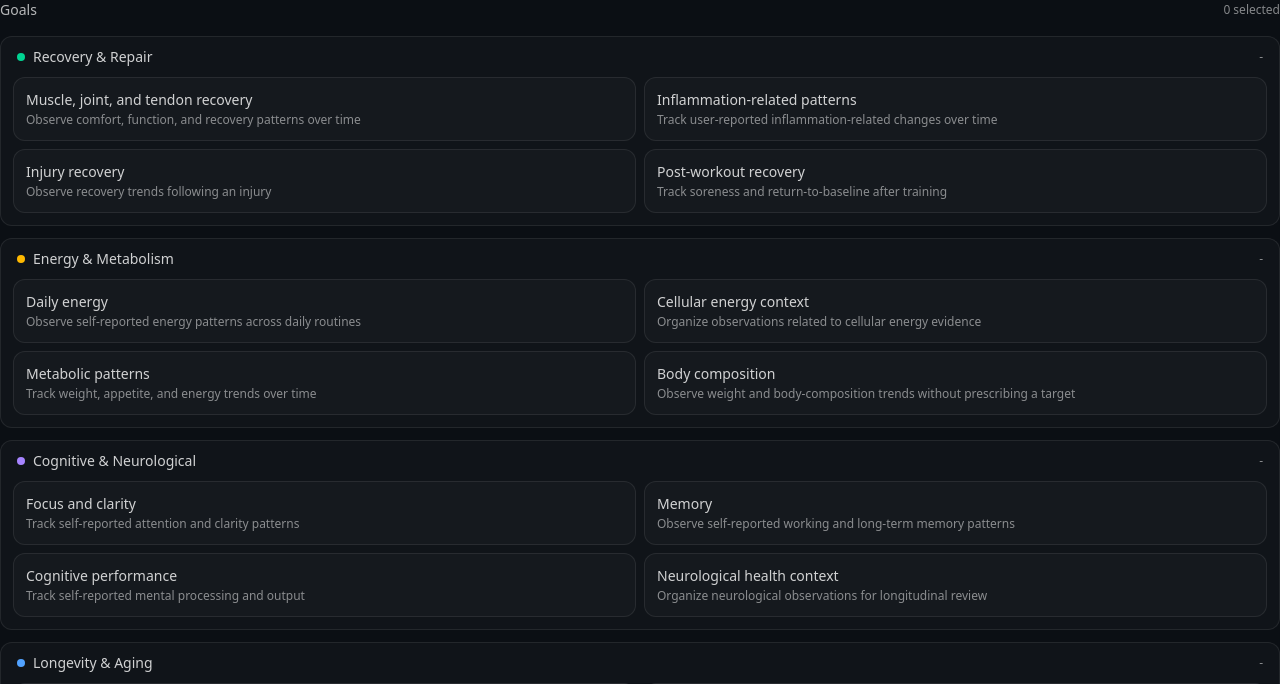
Test: GoalPicker › collapses and expands a category on button click
Expected: the text "Muscle, joint, and tendon recovery" is shown, [26,90,252,109]
Note: Click the category header to collapse
Click the text "Recovery & Repair".
click(93, 57)  # box [33,47,152,67]
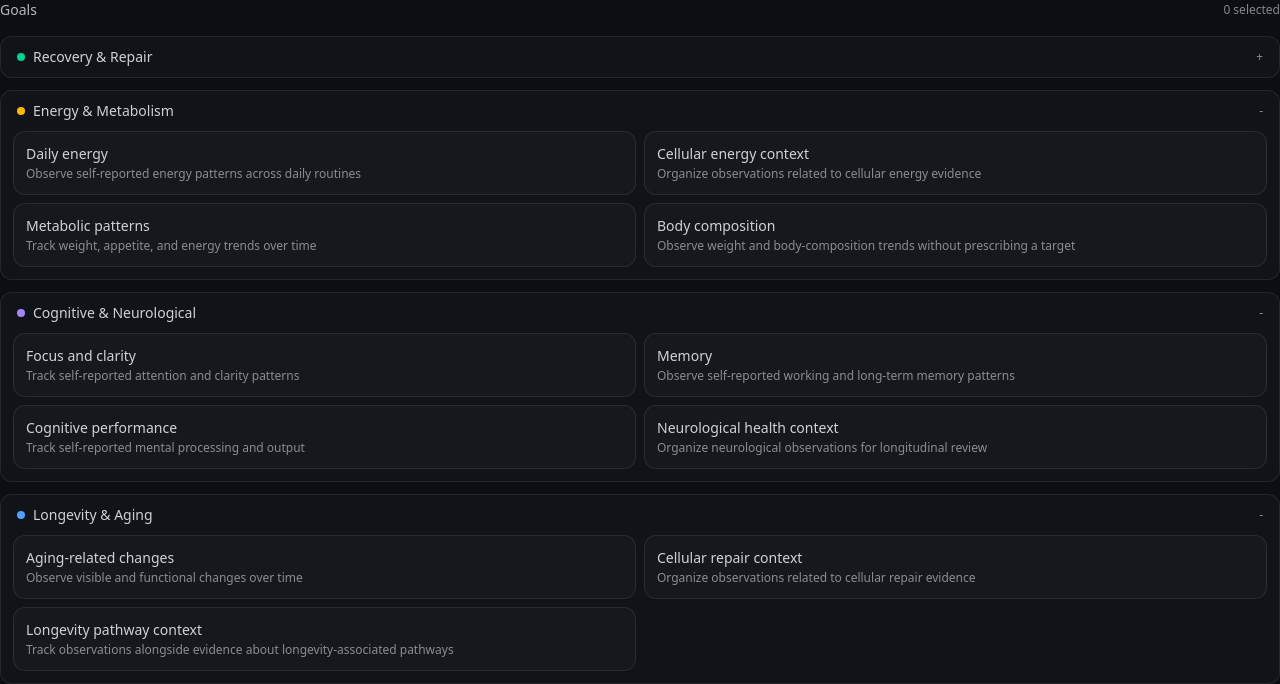
Result: the button "Muscle, joint, and tendon recovery" is gone
Note: Click again to expand
Click the text "Recovery & Repair".
click(93, 57)  # box [33,47,152,67]
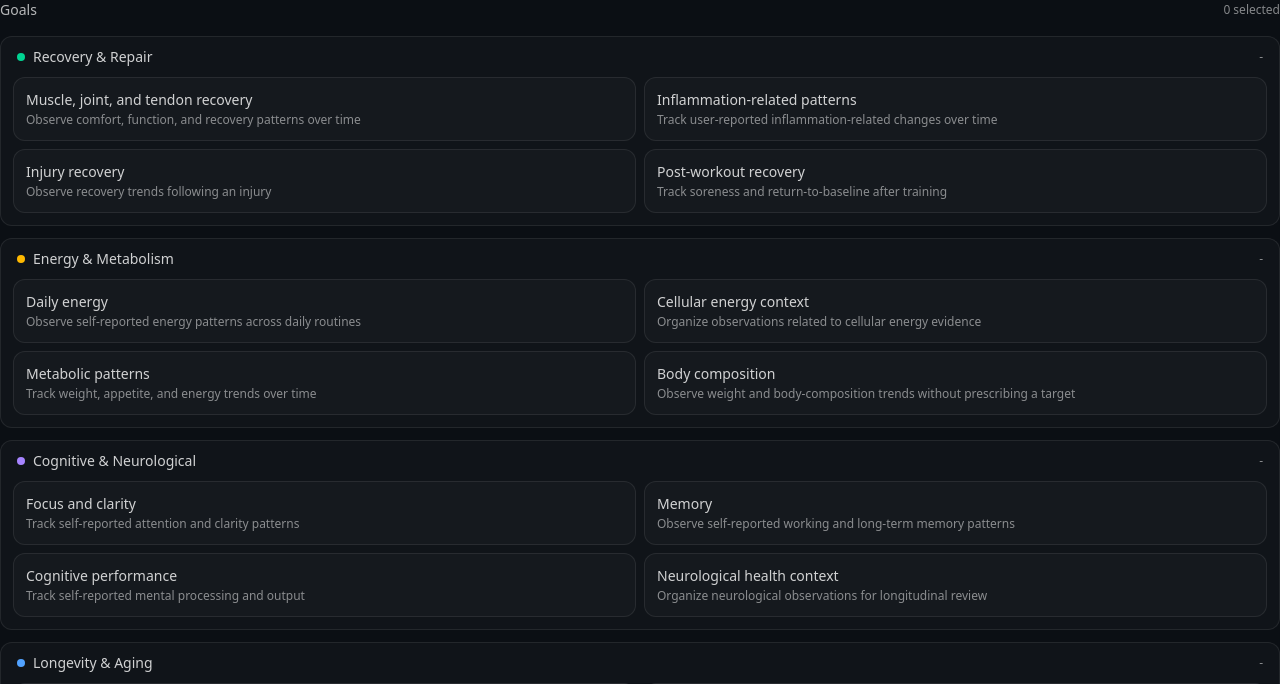
Result: the text "Muscle, joint, and tendon recovery" is shown at [26,90,252,109]
